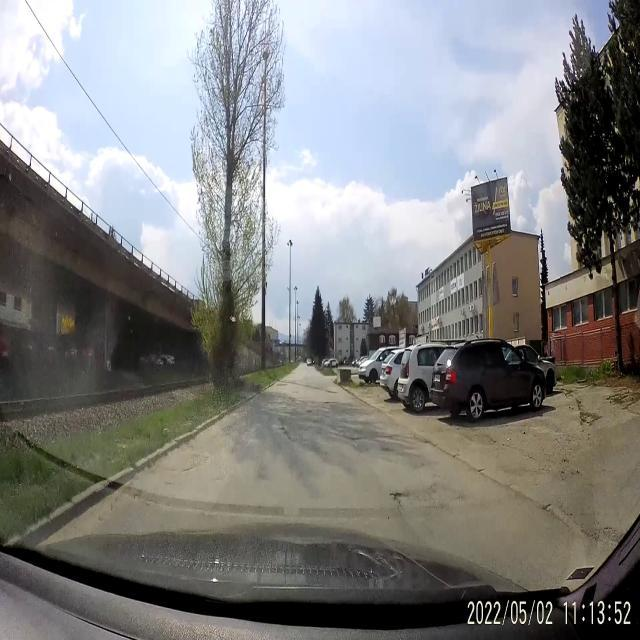Pothole: (388, 490, 417, 522), (341, 422, 362, 451), (276, 408, 292, 446), (416, 430, 438, 450), (376, 439, 399, 457)
